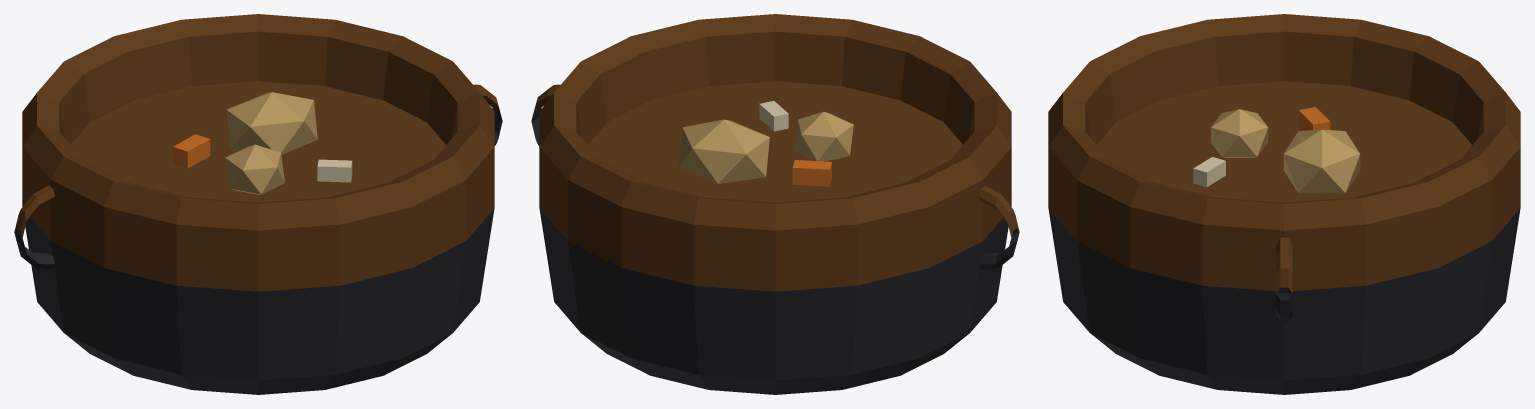
File: Root_Stew.glb
3 renders of one model, left to right at view 1: azimuth 30°, elevation 25°; view 2: azimuth 150°, elevation 25°; view 3: azimuth 270°, elevation 25°, orthographic.
Visible parts, largest first — view 1: _ITEM_RootStew; view 2: _ITEM_RootStew; view 3: _ITEM_RootStew.
Boxes of the visible parts, x1=… form: _ITEM_RootStew: x1=14, y1=14, x2=502, y2=394; _ITEM_RootStew: x1=531, y1=14, x2=1019, y2=394; _ITEM_RootStew: x1=1048, y1=14, x2=1520, y2=394.
Size of the model in its own units: 0.74 by 0.3 by 0.6303.
